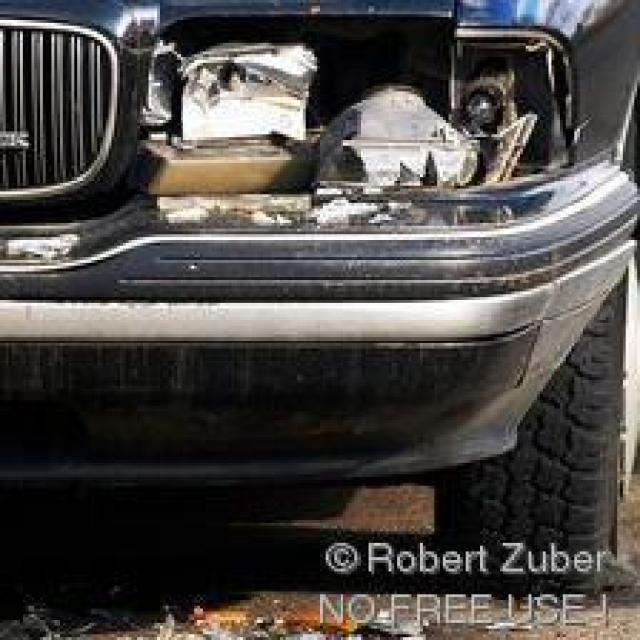damaged: (143, 17, 583, 234)
